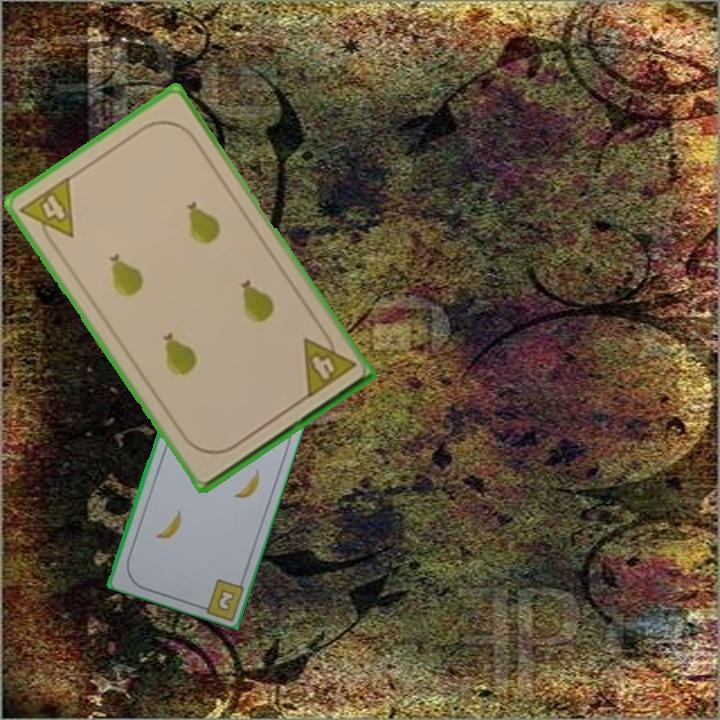2b: (215, 588, 236, 612)
4p: (15, 173, 77, 252), (298, 325, 359, 402)
